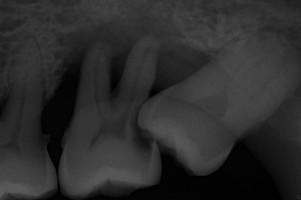Dental Caries: (54, 11, 224, 92)
Furcation Involvement: (255, 16, 301, 52)
